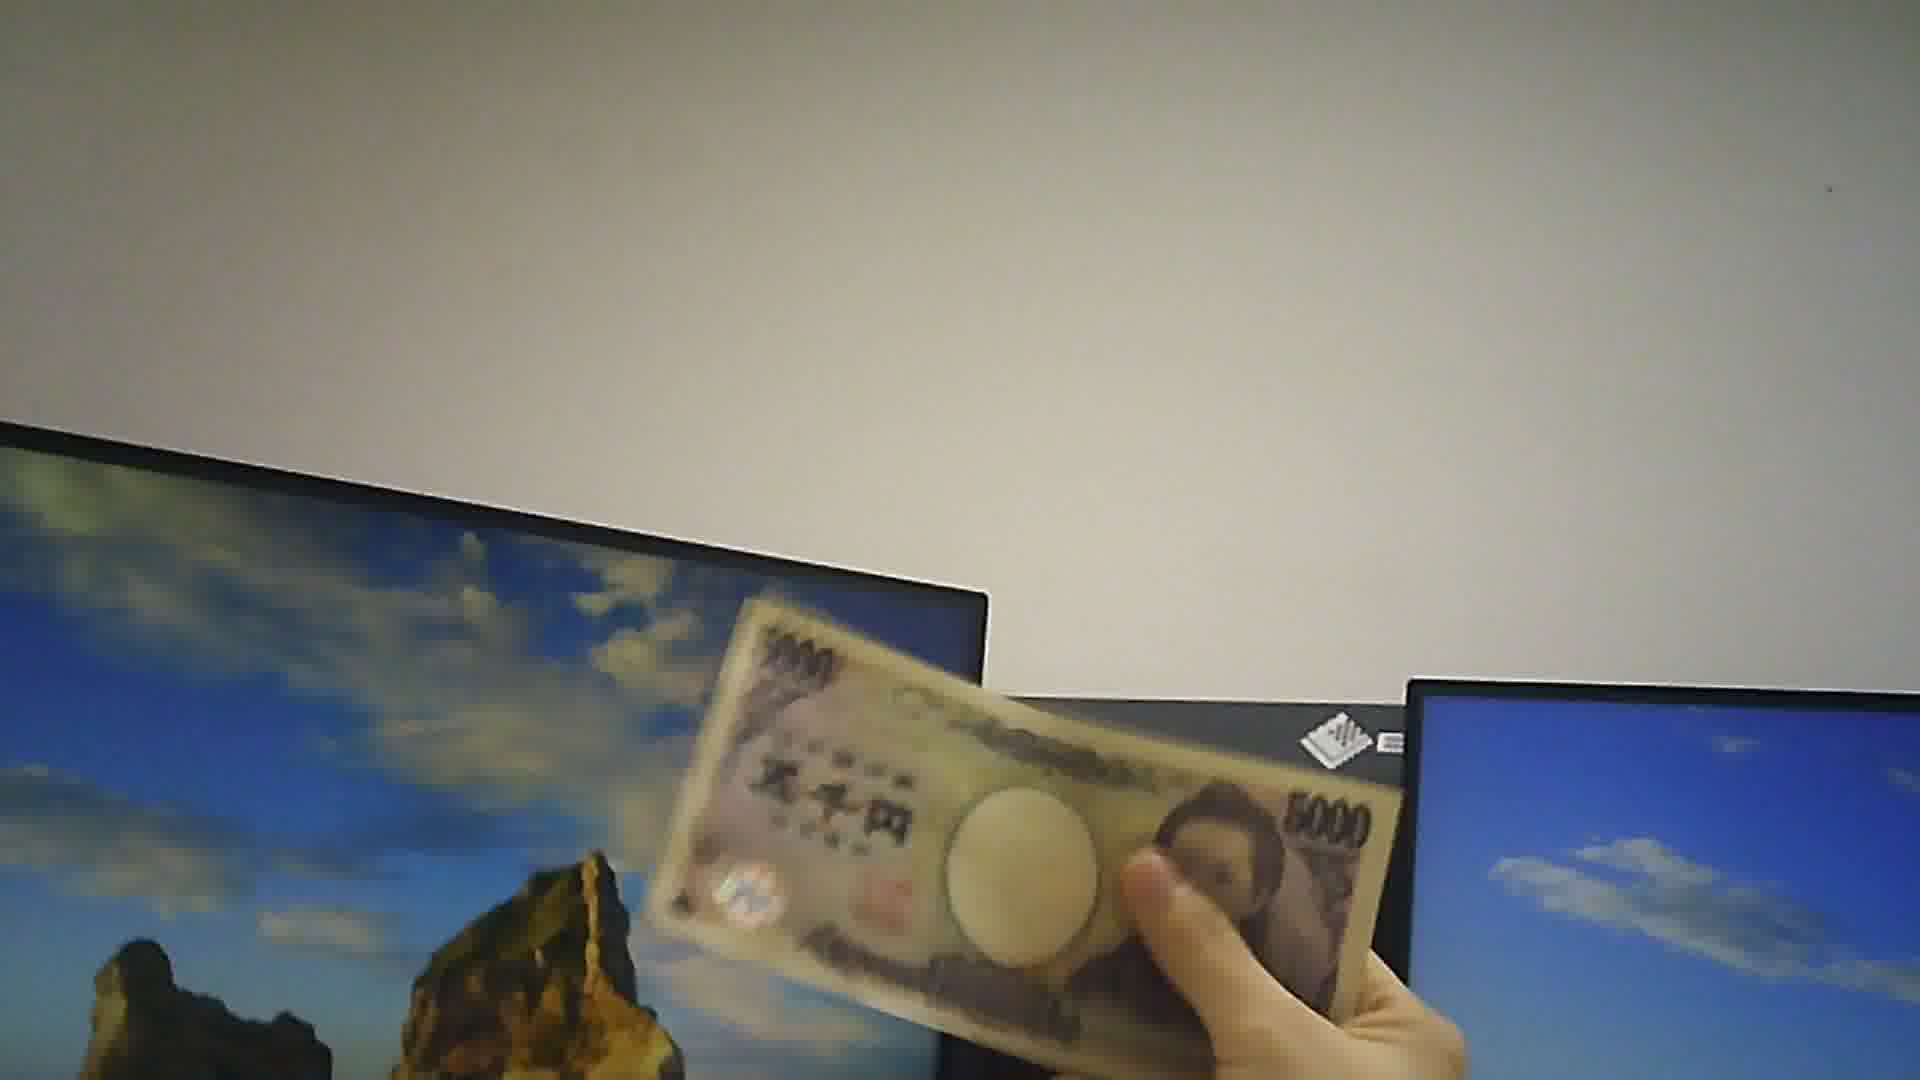5,000 Yen: (670, 593, 1378, 1058)
